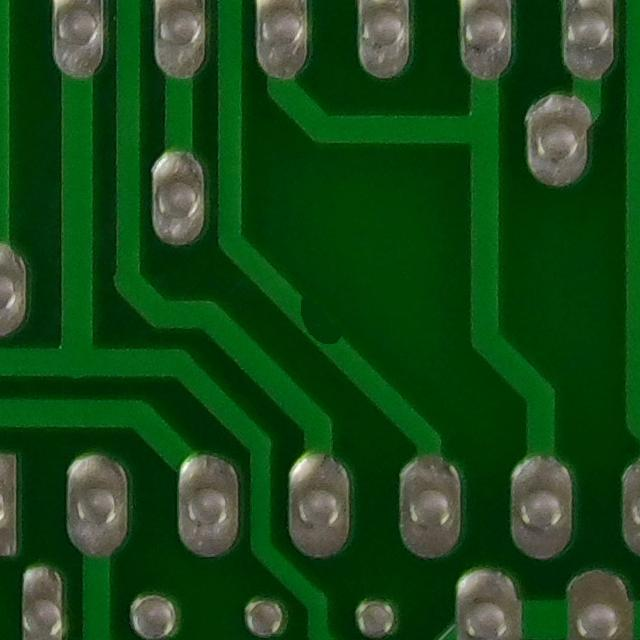mouse_bite: (272, 285, 369, 355)
